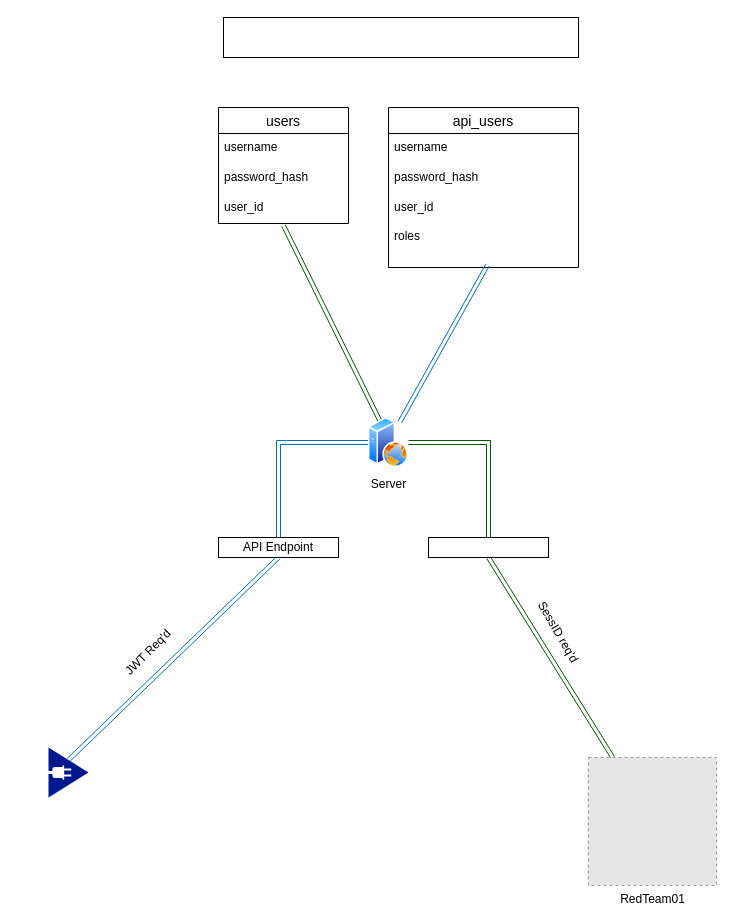
This 734x924 diagram has some shape labels left out. Grey dashed boxes stand in for pictures. The shapes that lost their labels are listed below. From the top down, each one's centre as x and y in pixels, then its label:
At (x=400, y=37): "Tables of 'users.db'".
At (x=488, y=547): "Webserver Endpoint".
At (x=68, y=772): "API External Plugin".
